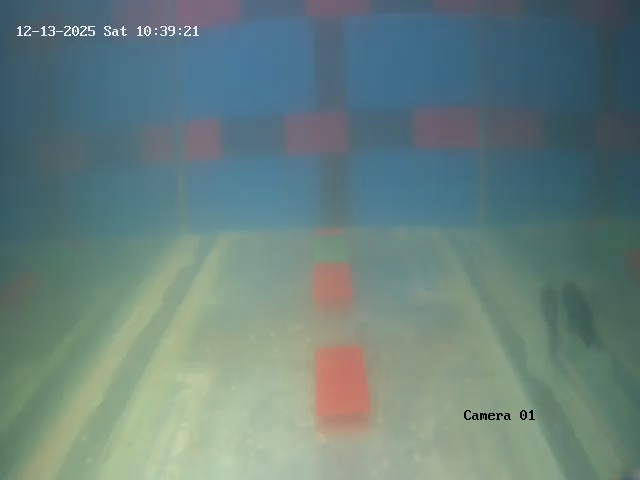fish: (531, 270, 565, 360)
